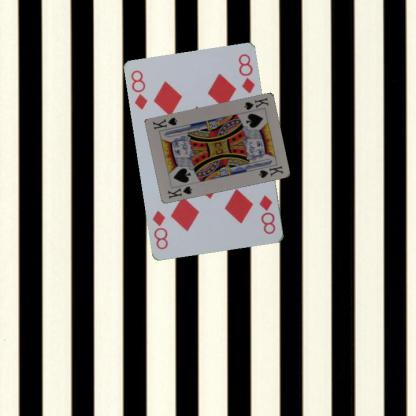8d: (257, 192, 278, 236), (128, 68, 149, 111)
Ks: (165, 183, 194, 200), (241, 95, 270, 111)
